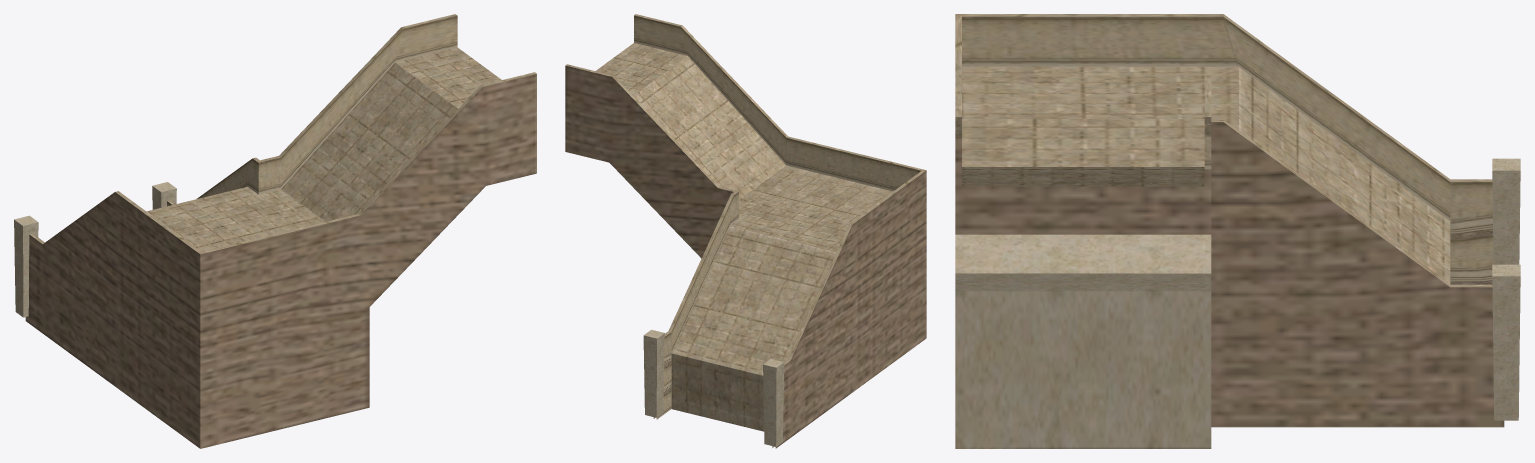
File: thm_nboo_imprv_bridge_stairs_s03_l2.fbx
3 views of the same model, side by side, from view 1: azimuth 30°, elevation 25°; view 2: azimuth 150°, elevation 25°; view 3: azimuth 270°, elevation 25° (orthographic). The views are drawn at different scales.
Visible parts, largest first — view 1: mesh_node; view 2: mesh_node; view 3: mesh_node.
Part boxes in pixels (x1,y1,x2,y2): mesh_node: [14, 14, 536, 448]; mesh_node: [565, 14, 926, 448]; mesh_node: [955, 14, 1520, 448].
Bounding box in the file's own units: 12.63 × 10.32 × 11.49.
